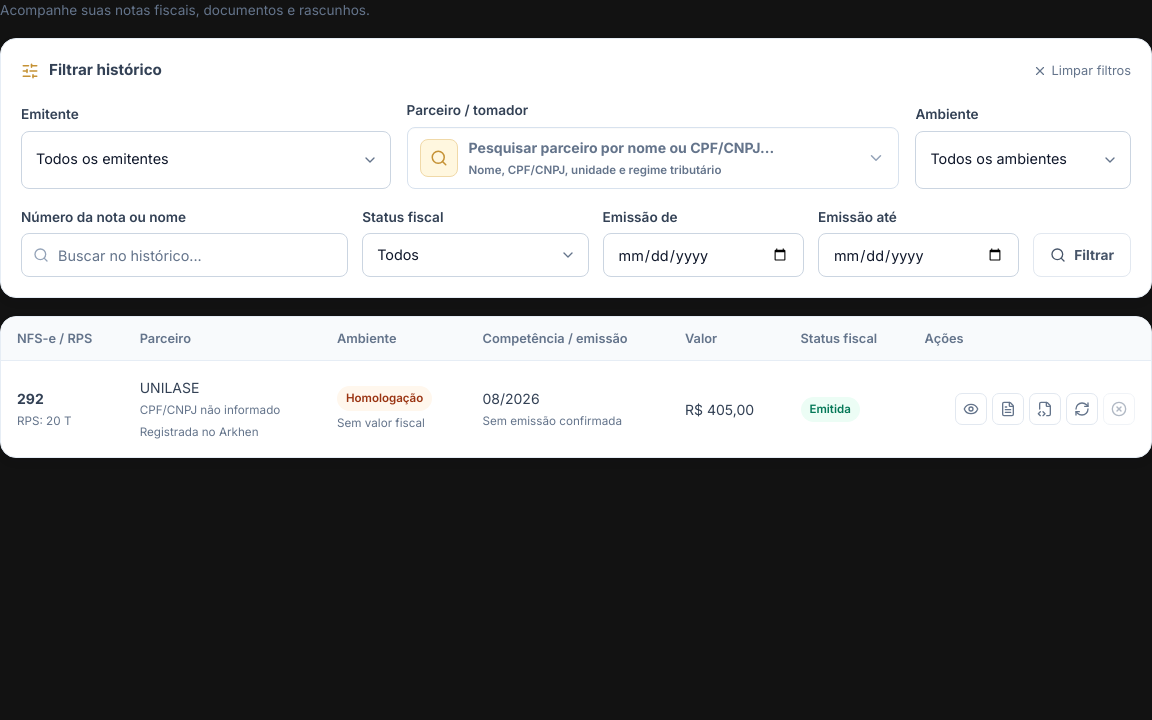
Test: Histórico fiscal › permite repetir a geração após falha e descarta resposta após fechar
The width and height of the screenshot is (1152, 720).
Expected: the text "UNILASE" is shown, [140,379,199,396]
Click the button named "Visualizar PDF": point(1008, 410) [992,394,1024,426]
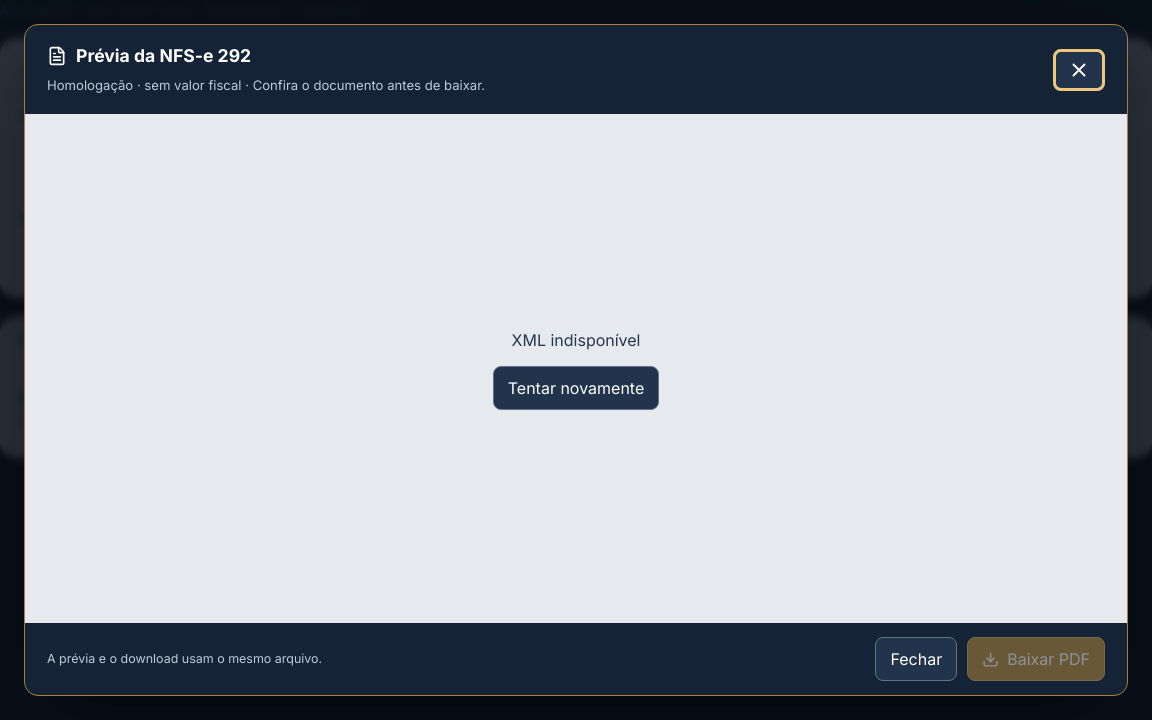
Expected: the message shows "XML indisponível", [512,330,640,350]
Click the button "Tentar novamente": point(576, 388) [493,366,659,410]
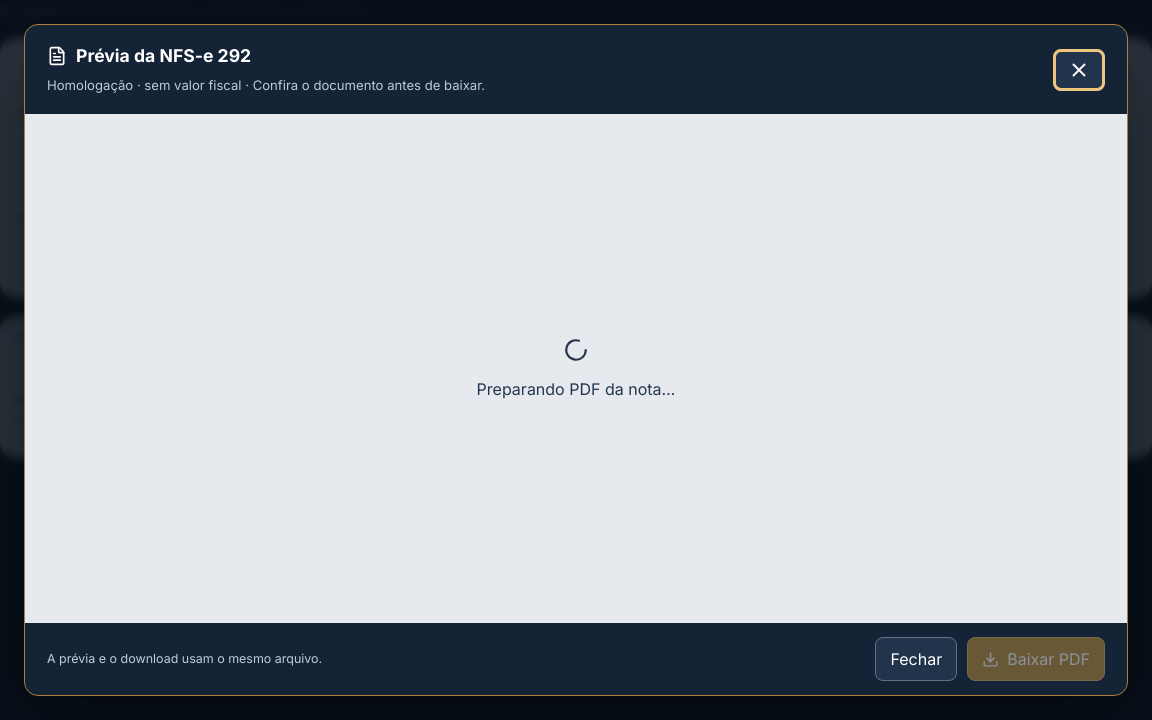
Click the button named "Fechar prévia do PDF": point(1079, 70) [1053,48,1105,90]
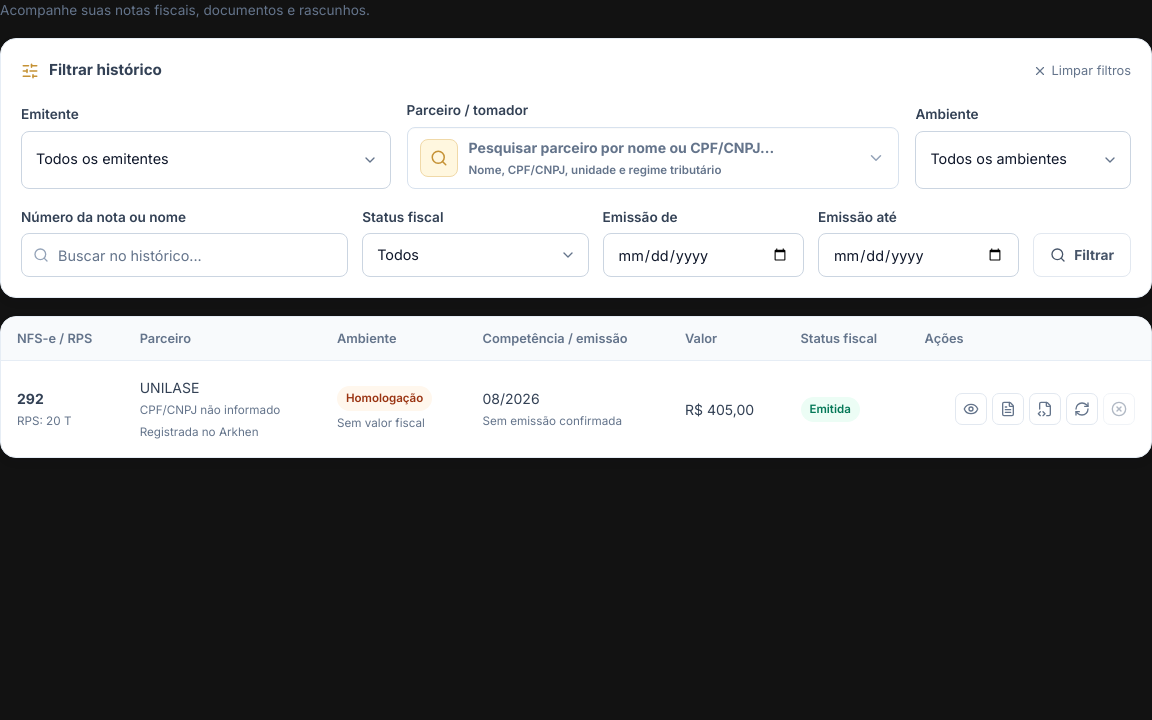
Expected: the dialog is gone
